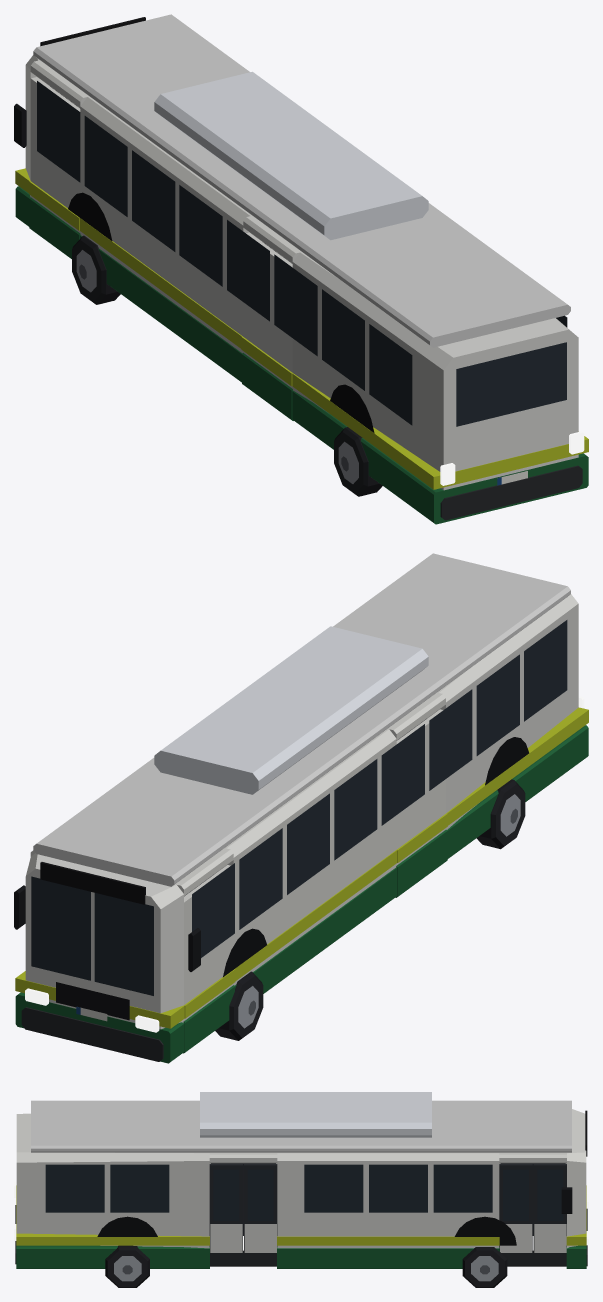
Rendered from bus_lo.glb.
The picture shows the model from 3 angles, top to bottom: view 1: azimuth 30°, elevation 25°; view 2: azimuth 150°, elevation 25°; view 3: azimuth 270°, elevation 25°; orthographic projection. The views are drawn at different scales.
Visible parts, largest first — view 1: body.005, wheel_RL.004, wheel_FL.004; view 2: body.005, wheel_RL.004, wheel_FL.004; view 3: body.005, door_mid_a.001, door_mid_b.001, door_front_a.001, door_front_b.001, wheel_RR.004, wheel_FR.004.
Boxes of the visible parts, bbox=[...] form: body.005: bbox=[14, 14, 588, 524]; wheel_RL.004: bbox=[334, 427, 382, 496]; wheel_FL.004: bbox=[72, 235, 120, 304]; body.005: bbox=[14, 553, 588, 1063]; wheel_RL.004: bbox=[476, 779, 525, 849]; wheel_FL.004: bbox=[215, 971, 263, 1040]; body.005: bbox=[14, 1092, 588, 1268]; door_mid_a.001: bbox=[244, 1164, 277, 1252]; door_mid_b.001: bbox=[209, 1164, 242, 1252]; door_front_a.001: bbox=[533, 1164, 566, 1252]; door_front_b.001: bbox=[499, 1164, 532, 1252]; wheel_RR.004: bbox=[105, 1245, 149, 1287]; wheel_FR.004: bbox=[462, 1247, 507, 1287].
Size of the model in its own units: 2.92 by 3.53 by 11.91.
